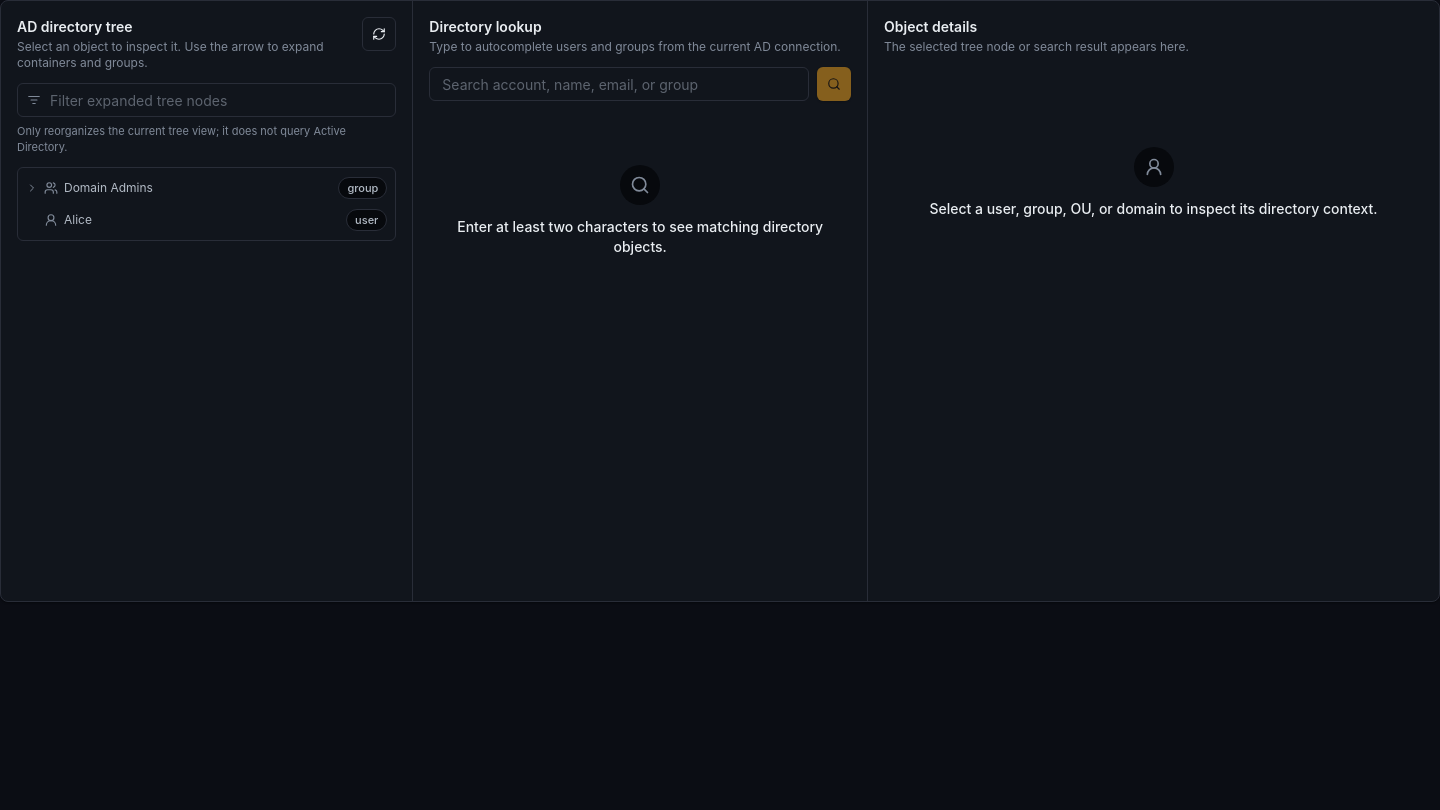
Test: DirectoryExplorerWorkbench › shows user details and direct groups when a user tree node is selected
The image size is (1440, 810).
Click the text "Alice".
click(78, 220)  # box [64, 212, 92, 228]
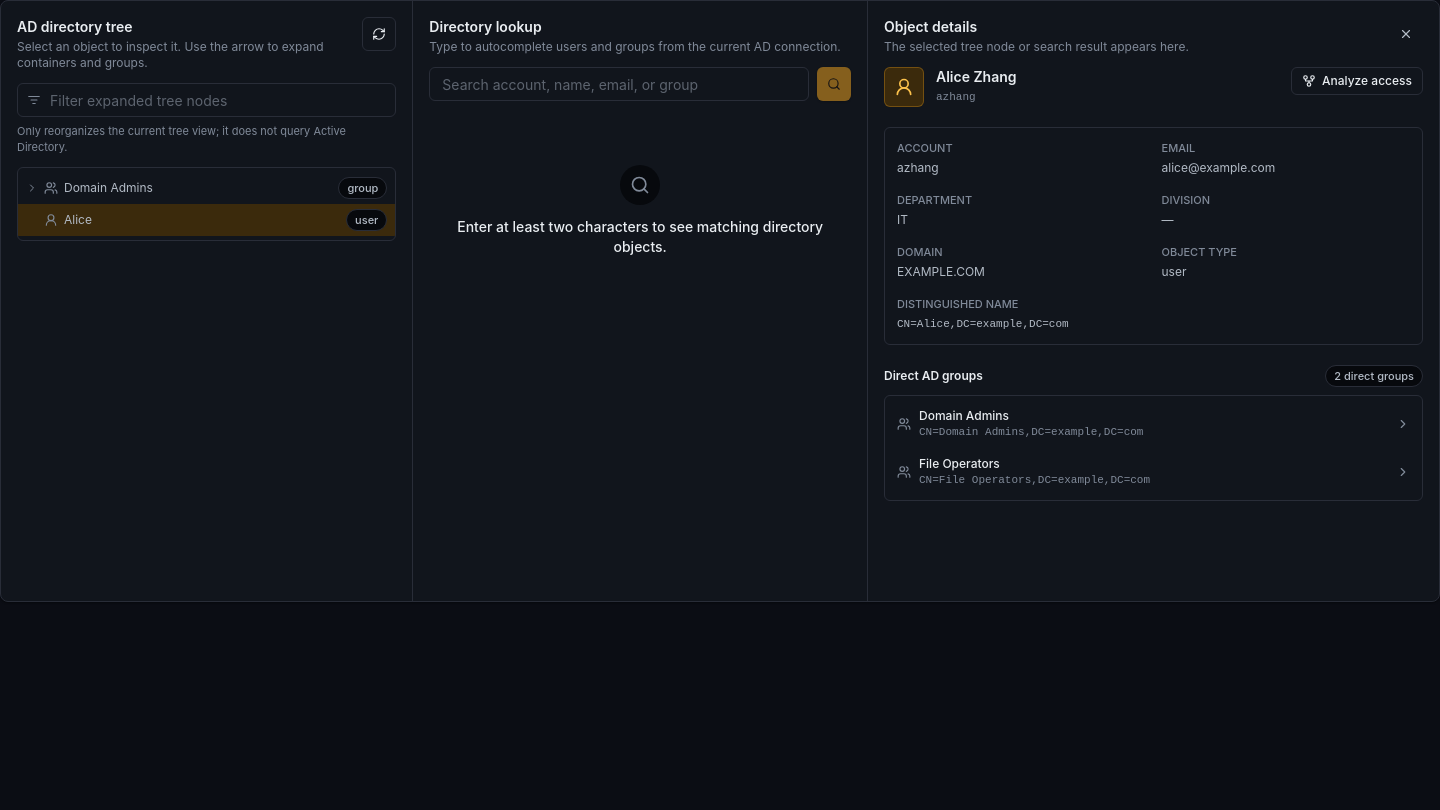
Expected: the heading "Alice Zhang" is shown, [936, 68, 1016, 85]
Expected: the heading "Direct AD groups" is shown, [884, 368, 983, 384]
Expected: the text "Domain Admins" below "Direct AD groups" is shown, [919, 408, 1009, 423]
